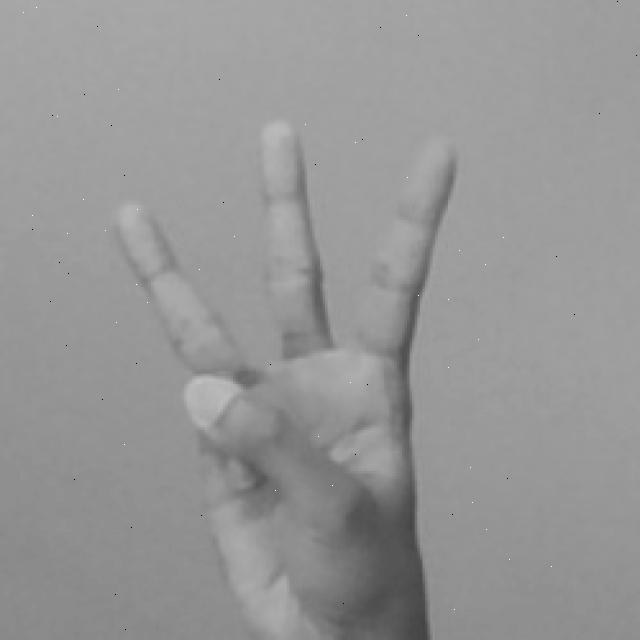W: (95, 110, 461, 640)
